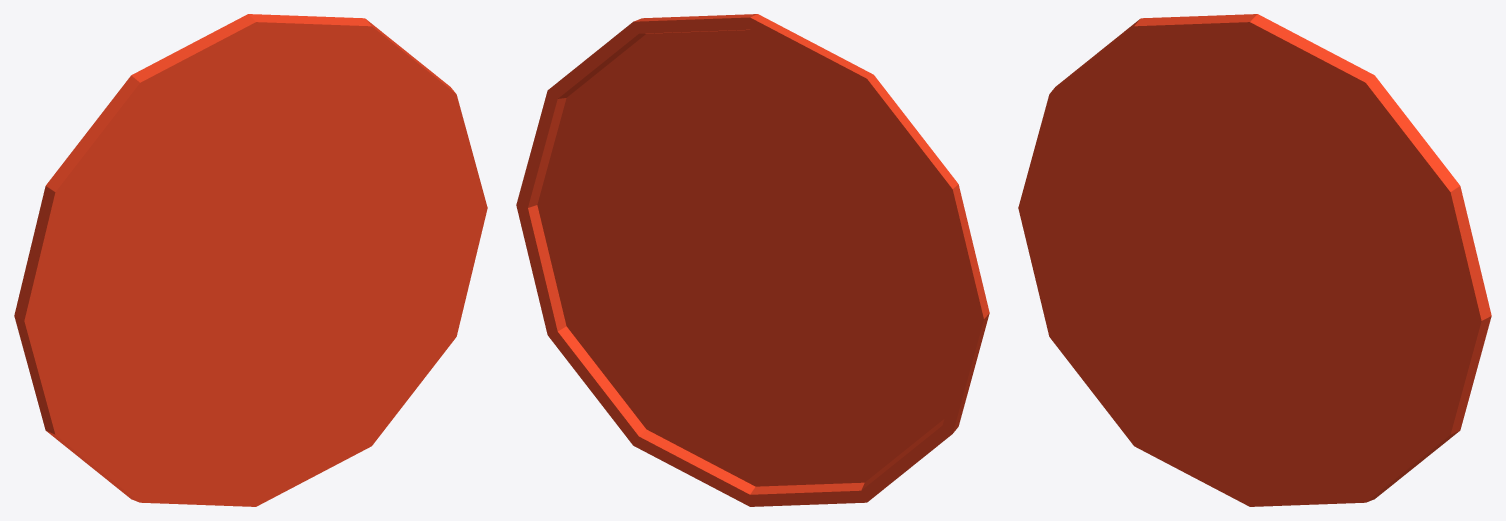
The model's file is SM_Sign_Railroad_A_City.fbx.
3 renders of one model, left to right at view 1: azimuth 30°, elevation 25°; view 2: azimuth 150°, elevation 25°; view 3: azimuth 330°, elevation 25°, orthographic.
Visible parts, largest first — view 1: SM_Sign_Railroad_A_City; view 2: SM_Sign_Railroad_A_City; view 3: SM_Sign_Railroad_A_City.
Boxes of the visible parts, x1,y1,x2,y2 form: SM_Sign_Railroad_A_City: (14, 14, 487, 506); SM_Sign_Railroad_A_City: (516, 14, 989, 506); SM_Sign_Railroad_A_City: (1018, 14, 1491, 506).
Size of the model in its own units: 0.733 by 0.733 by 0.0215.
